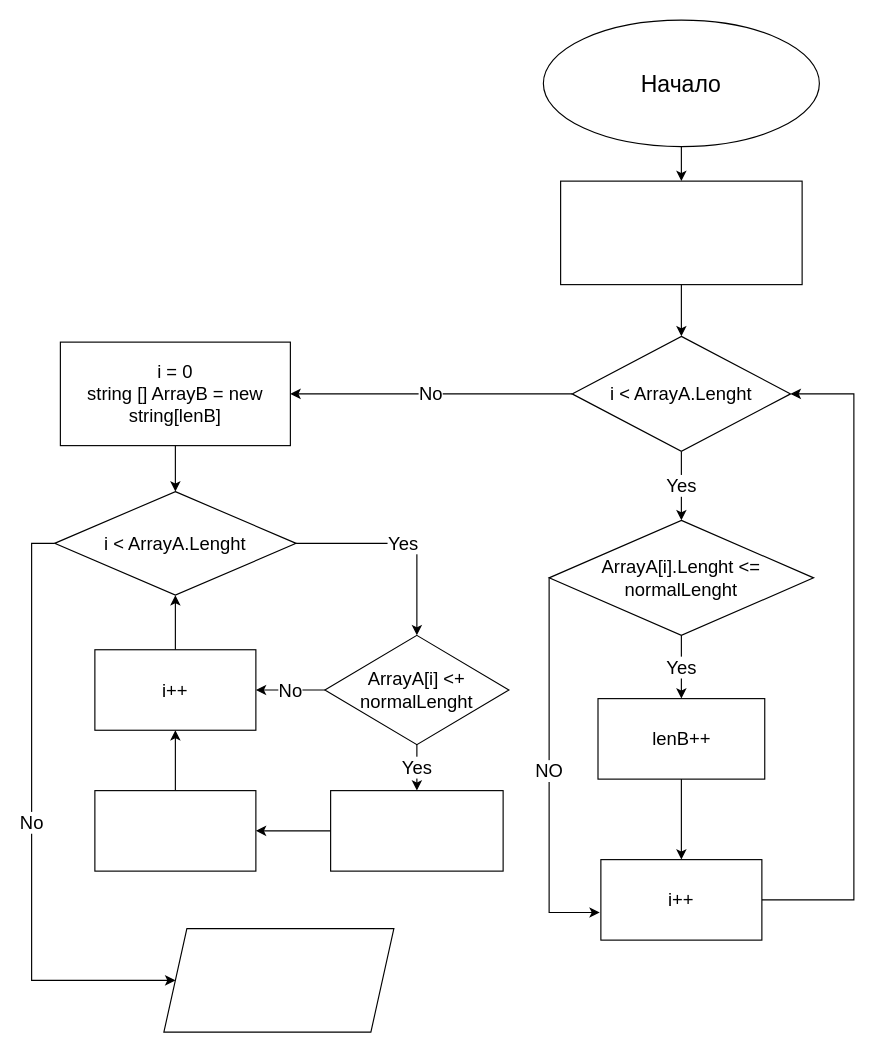
Image size: 883x1052. Some labels were removed from this diagram. Each missing label, with the centre of its shape:
"ArrayA i = 0 lenB = 0 normalLenght = 3" goes at pixel 680 232.
"ArrayB[j] = ArrayA[i]" goes at pixel 416 830.
"j++" goes at pixel 175 830.
"return ArrayB" goes at pixel 278 979.
